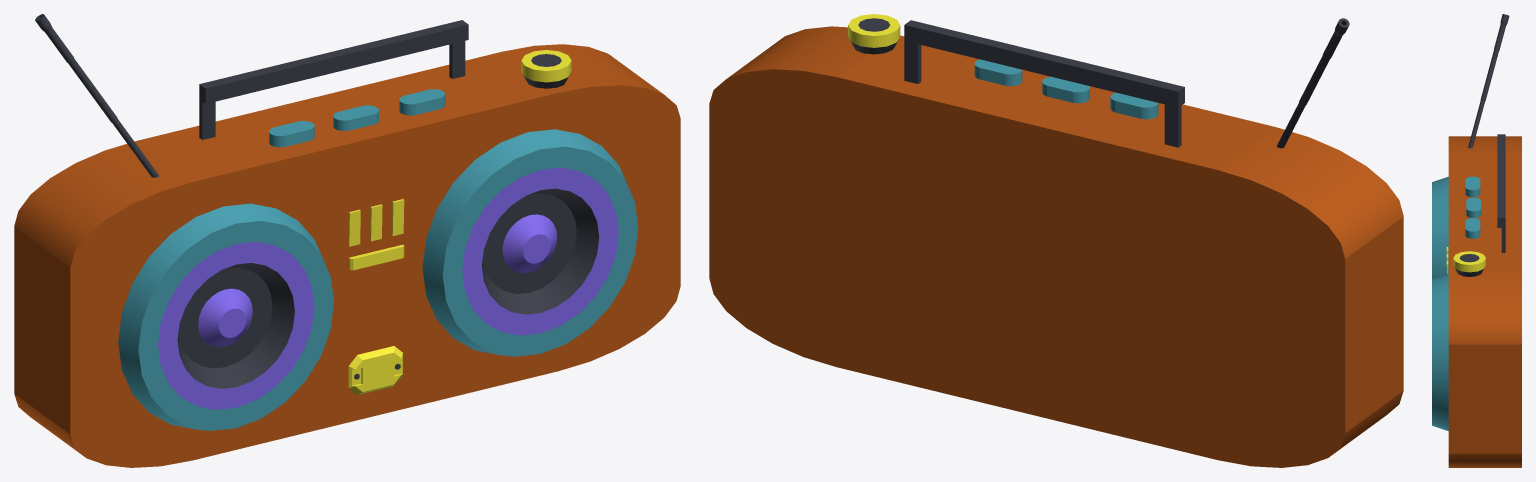
File: Radio.fbx
3 views of the same model, side by side, from view 1: azimuth 30°, elevation 25°; view 2: azimuth 150°, elevation 25°; view 3: azimuth 270°, elevation 25° (orthographic). The views are drawn at different scales.
Parts seen in each view (by area): view 1: mergedBlocks; view 2: mergedBlocks; view 3: mergedBlocks.
Boxes of the visible parts, x1,y1,x2,y2 form: mergedBlocks: (14, 14, 680, 467); mergedBlocks: (709, 14, 1403, 467); mergedBlocks: (1432, 14, 1521, 467).
Size of the model in its own units: 28.08 by 19.34 by 5.5.
